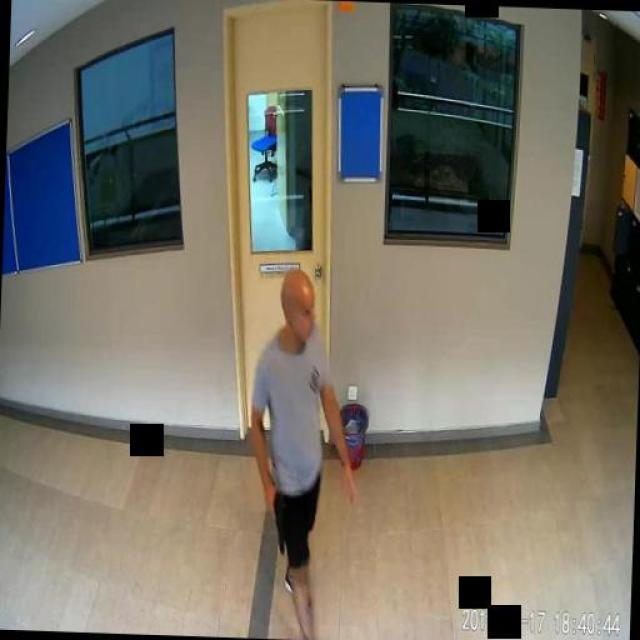gun: (261, 485, 285, 551)
